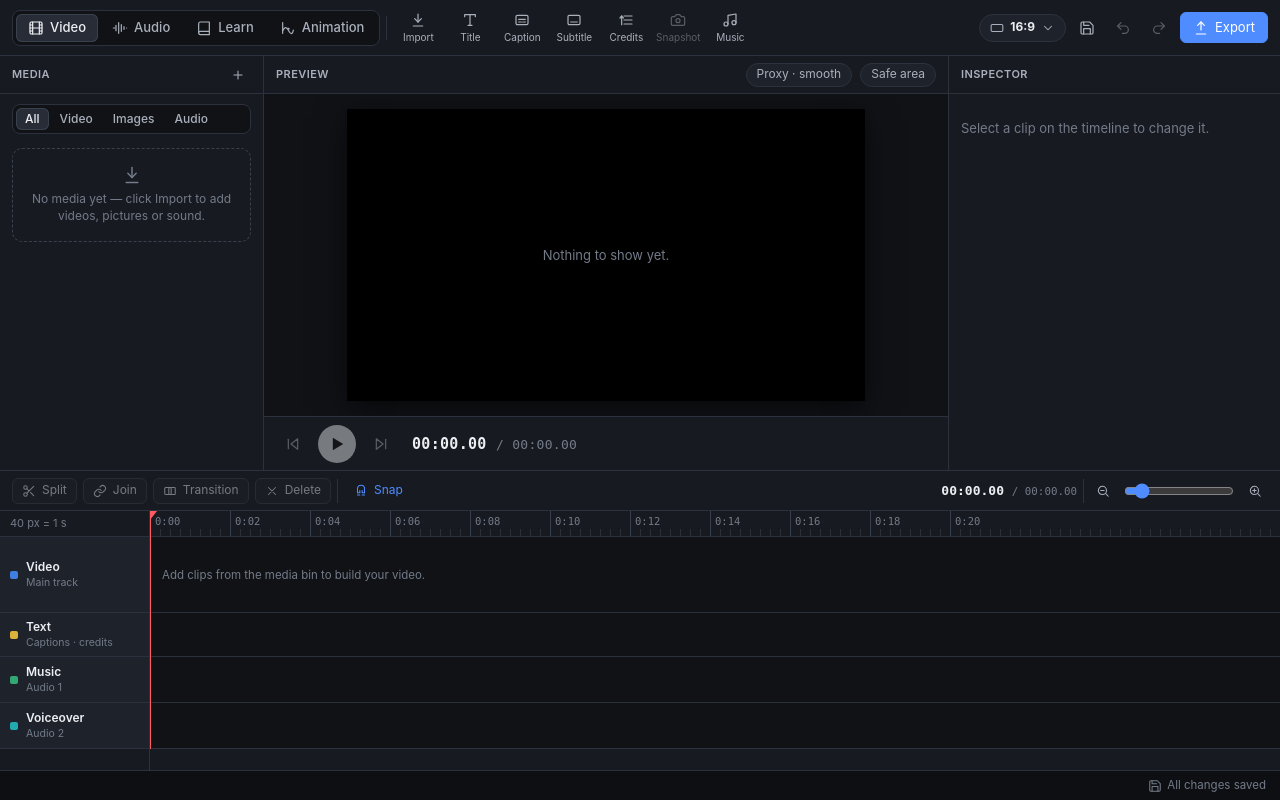
Test: adding a title › opens the new title on its Text tab, even if Effects was open before
Click the button with aria-label "Add title".
click(470, 28)  # box [445,6,495,50]
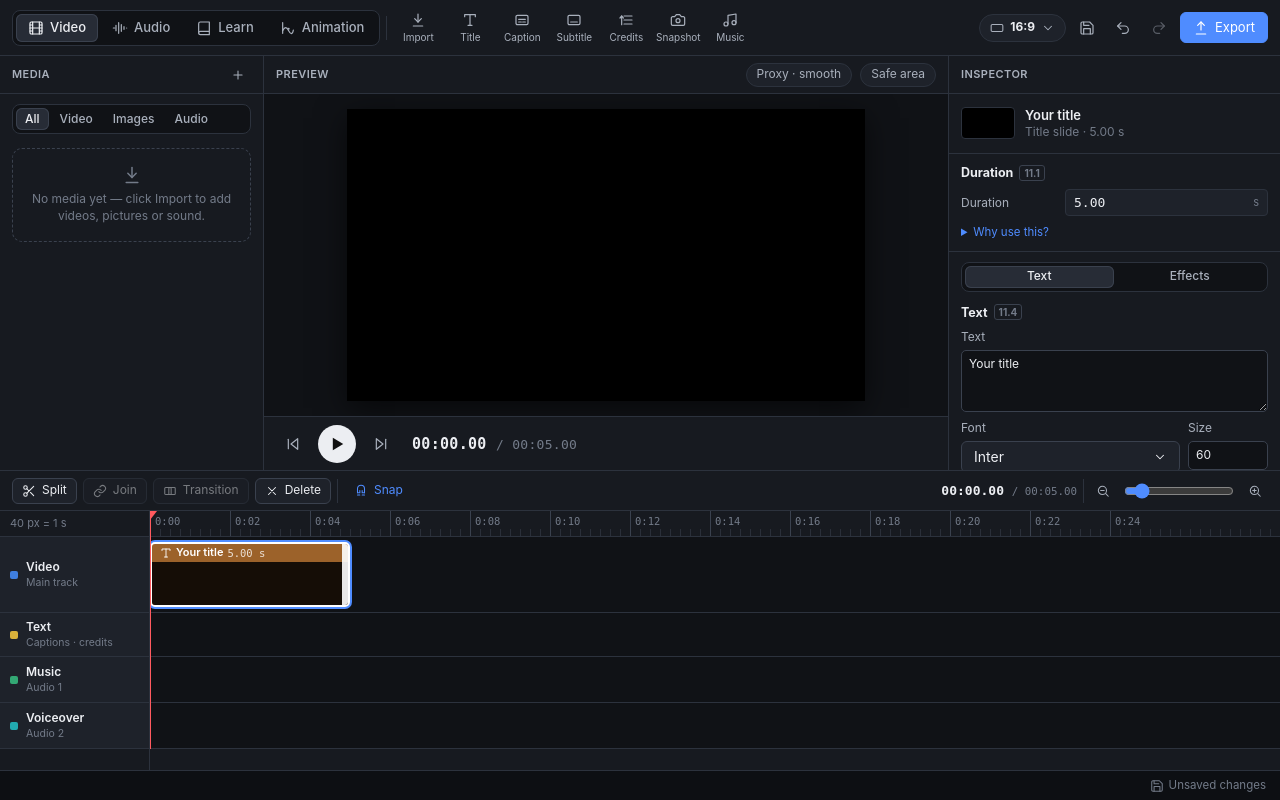
Expected: the text box labelled "Text" is shown, [961,350,1268,412]
